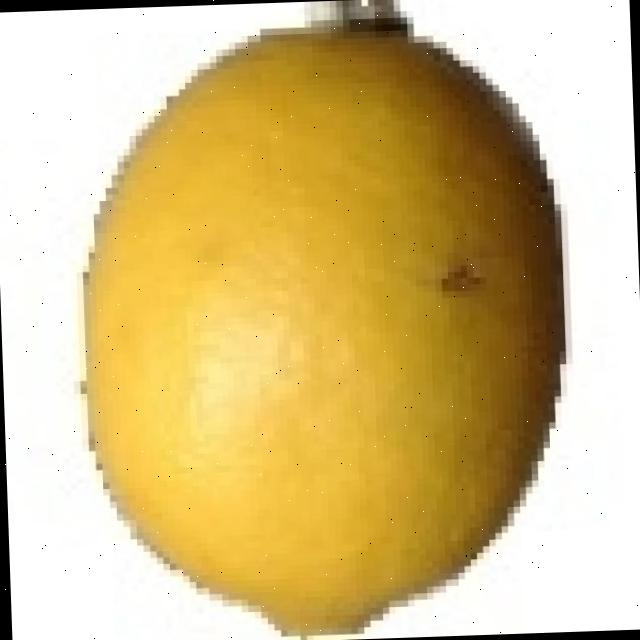lemon: (84, 0, 562, 634)
